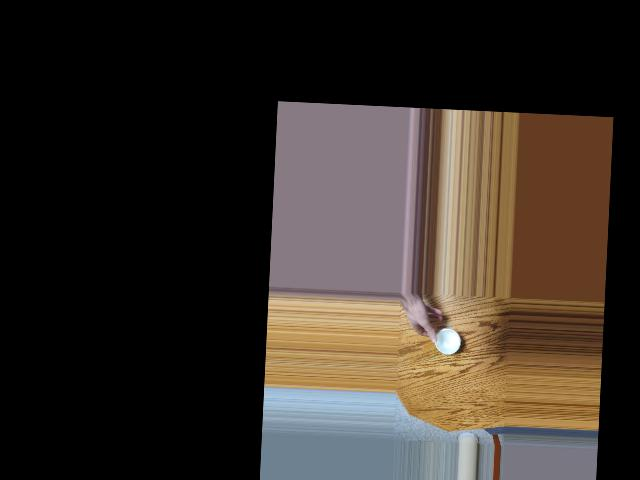cotage: (429, 324, 463, 358)
